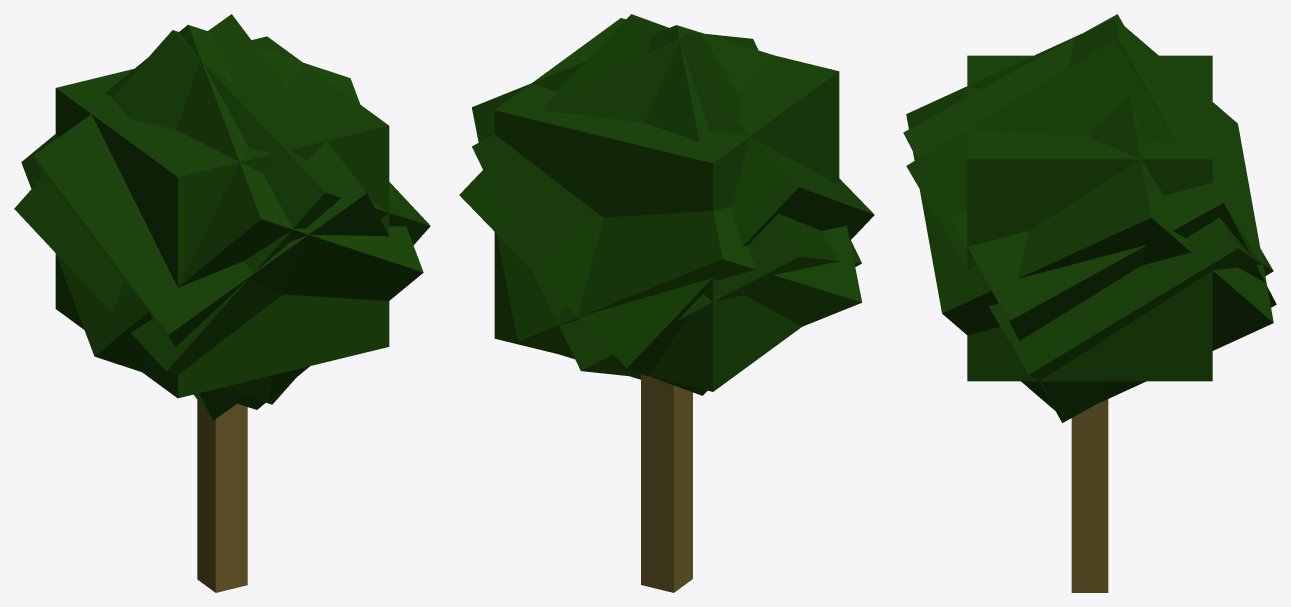
The model's file is tree.fbx.
3 renders of one model, left to right at view 1: azimuth 30°, elevation 25°; view 2: azimuth 150°, elevation 25°; view 3: azimuth 270°, elevation 25°, orthographic. The views are drawn at different scales.
Visible parts, largest first — view 1: Cube; view 2: Cube; view 3: Cube.
Part boxes in pixels (left/top/right/bottom): Cube: left=14, top=14, right=430, bottom=592; Cube: left=459, top=14, right=874, bottom=592; Cube: left=903, top=14, right=1276, bottom=592.
Size of the model in its own units: 1182 by 1860 by 1133.
